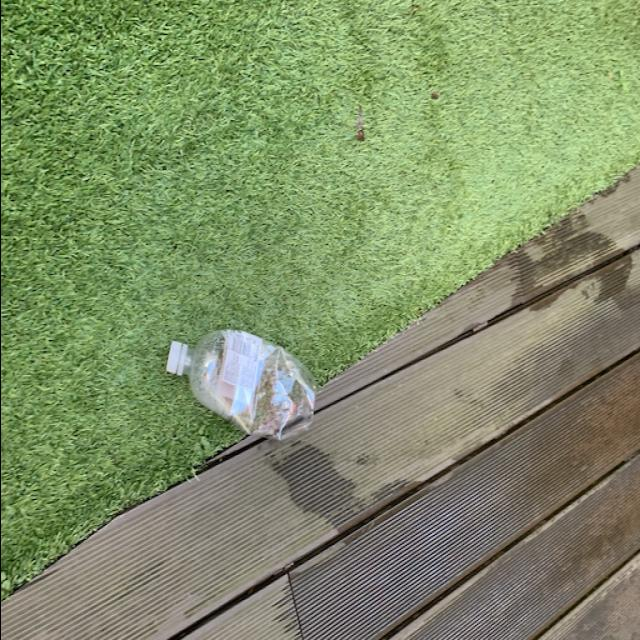PET: (157, 328, 320, 447)
